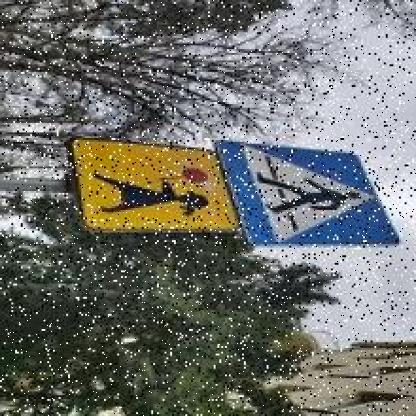Pedestrian Crossing: (223, 137, 405, 253)
